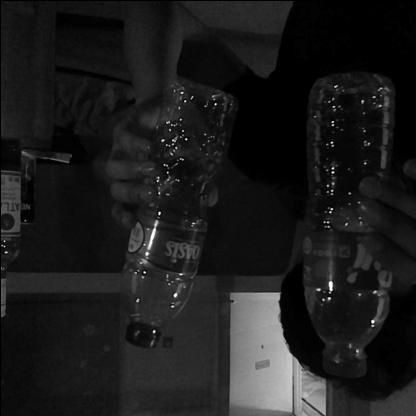plastic_bottles: (116, 81, 234, 350), (305, 75, 393, 382)
